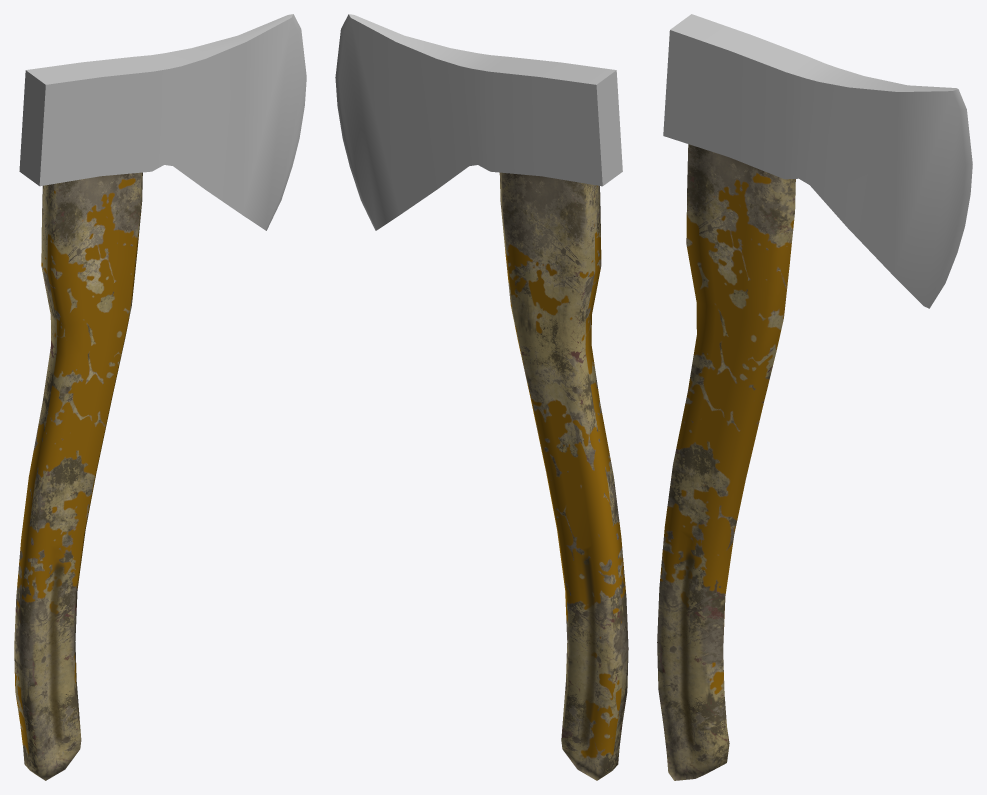
File: axe1.fbx
The picture shows the model from 3 angles, left to right: view 1: azimuth 30°, elevation 25°; view 2: azimuth 150°, elevation 25°; view 3: azimuth 330°, elevation 25°; orthographic projection. The views are drawn at different scales.
Visible parts, largest first — view 1: Plane, Plane.001; view 2: Plane, Plane.001; view 3: Plane, Plane.001.
Part boxes in pixels (x1,y1,x2,y2): Plane: (14,172,142,780); Plane.001: (19,14,306,230); Plane: (499,172,628,780); Plane.001: (335,14,622,230); Plane: (657,144,795,780); Plane.001: (663,14,972,308).
Size of the model in its own units: 58.77 by 137 by 7.16.
